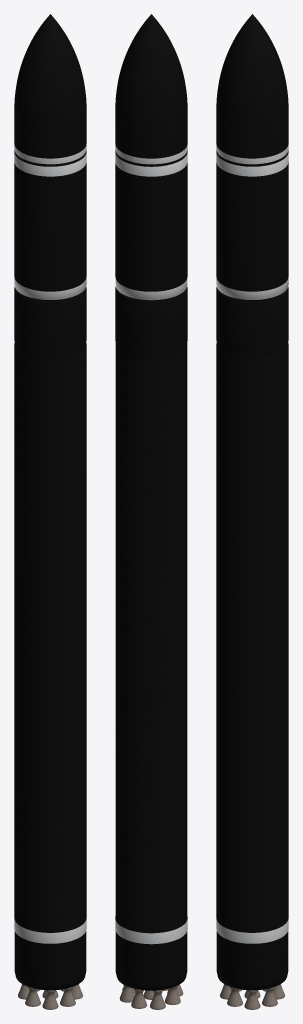
File: launcher_electron.glb
The picture shows the model from 3 angles, left to right: view 1: azimuth 90°, elevation 25°; view 2: azimuth 150°, elevation 25°; view 3: azimuth 270°, elevation 25°; orthographic projection.
Visible parts, largest first — view 1: Booster shell, Upper stage shell, fairing_left shell, Interstage skirt, Booster bell 05, Booster bell 04, Booster bell 06; view 2: Booster shell, Upper stage shell, fairing_left shell, Interstage skirt, fairing_right shell, Booster bell 04, Booster bell 03, Booster bell 05; view 3: Booster shell, Upper stage shell, fairing_right shell, Interstage skirt, Booster bell 01, Booster bell 02, Booster bell 08.
Boxes of the visible parts, box(x1,y1,x2,y2) form: Booster shell: box(14, 343, 86, 990); Upper stage shell: box(14, 150, 86, 301); fairing_left shell: box(14, 14, 86, 165); Interstage skirt: box(14, 287, 86, 356); Booster bell 05: box(42, 990, 58, 1009); Booster bell 04: box(25, 986, 40, 1006); Booster bell 06: box(60, 986, 75, 1006); Booster shell: box(115, 343, 187, 990); Upper stage shell: box(115, 150, 187, 301); fairing_left shell: box(133, 14, 187, 165); Interstage skirt: box(115, 287, 187, 356); fairing_right shell: box(115, 14, 151, 163); Booster bell 04: box(150, 990, 165, 1009); Booster bell 03: box(131, 988, 146, 1008); Booster bell 05: box(165, 985, 180, 1004); Booster shell: box(216, 343, 288, 990); Upper stage shell: box(216, 150, 288, 301); fairing_right shell: box(216, 14, 288, 165); Interstage skirt: box(216, 287, 288, 356); Booster bell 01: box(244, 990, 260, 1009); Booster bell 02: box(262, 986, 277, 1006); Booster bell 08: box(227, 986, 242, 1006).
Size of the model in its own units: 1.2 by 18 by 1.2.
Materials: 3 (1 with a texture image).
